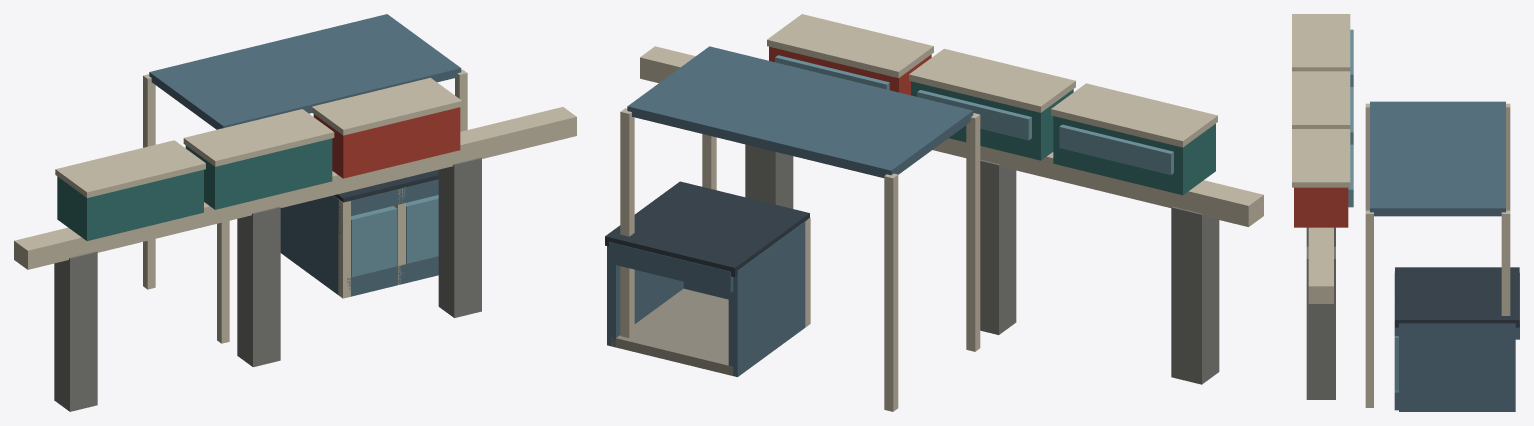
The model's file is mono-rail-yard.glb.
3 renders of one model, left to right at view 1: azimuth 30°, elevation 25°; view 2: azimuth 150°, elevation 25°; view 3: azimuth 270°, elevation 25°, orthographic. The views are drawn at different scales.
Visible parts, largest first — view 1: mono-rail-yard; view 2: mono-rail-yard; view 3: mono-rail-yard.
Boxes of the visible parts, <box> form: mono-rail-yard: <box>14,14,576,411</box>; mono-rail-yard: <box>605,14,1263,411</box>; mono-rail-yard: <box>1292,14,1519,411</box>.
Bounding box in the file's own units: 30 × 11.65 × 11.72.
